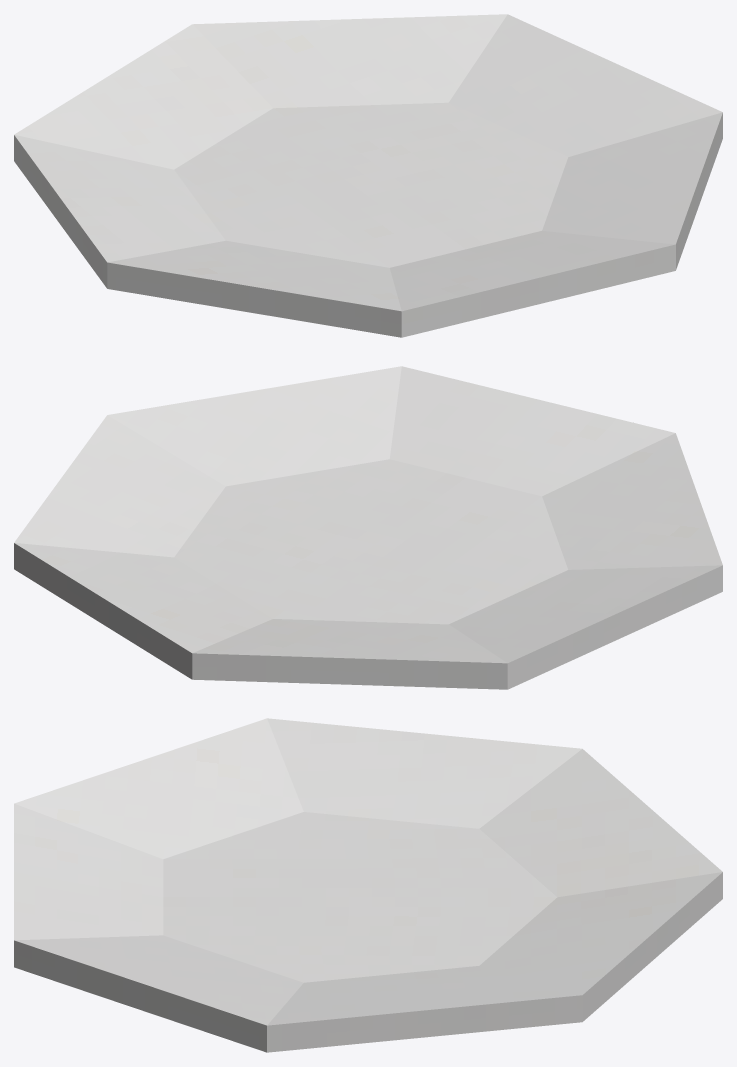
Rendered from Saucer01.obj.
The picture shows the model from 3 angles, top to bottom: view 1: azimuth 30°, elevation 25°; view 2: azimuth 150°, elevation 25°; view 3: azimuth 270°, elevation 25°; orthographic projection. The views are drawn at different scales.
Visible parts, largest first — view 1: Saucer01; view 2: Saucer01; view 3: Saucer01.
Part boxes in pixels (x1=…): Saucer01: x1=14, y1=14, x2=722, y2=337; Saucer01: x1=14, y1=366, x2=722, y2=689; Saucer01: x1=14, y1=718, x2=722, y2=1052.
Bounding box in the file's own units: 0.1462 × 0.0116 × 0.1426.
